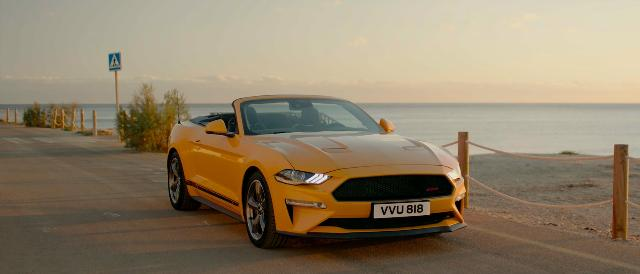ford-mustang: (166, 94, 466, 248)
